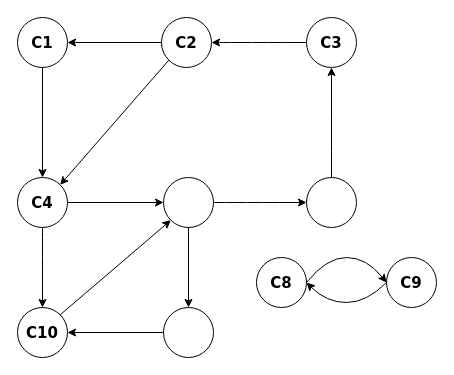
This 454x375 diagram has some shape labels left out. The centre of each missing label's shape, as x and y in pixels:
"C5" belongs at [188,202].
"C6" belongs at [331,202].
"C7" belongs at [188,332].
